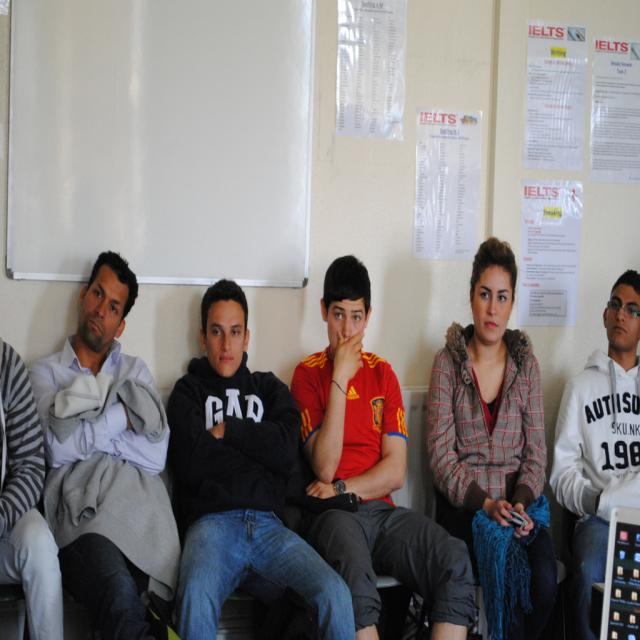Glasses: (606, 297, 640, 324)
